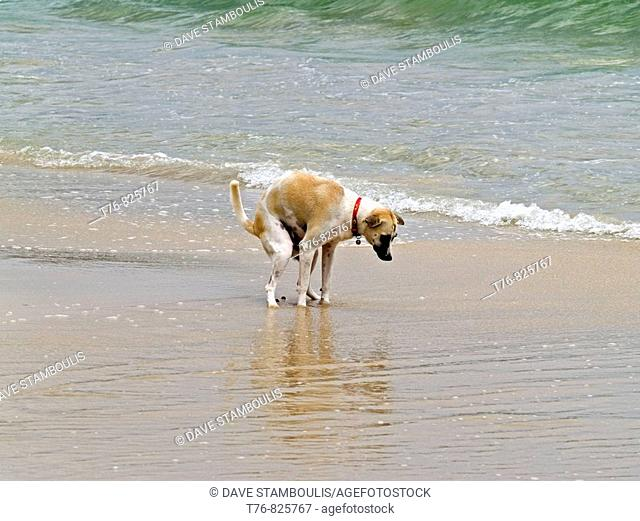dog_pooping: (226, 168, 408, 318)
